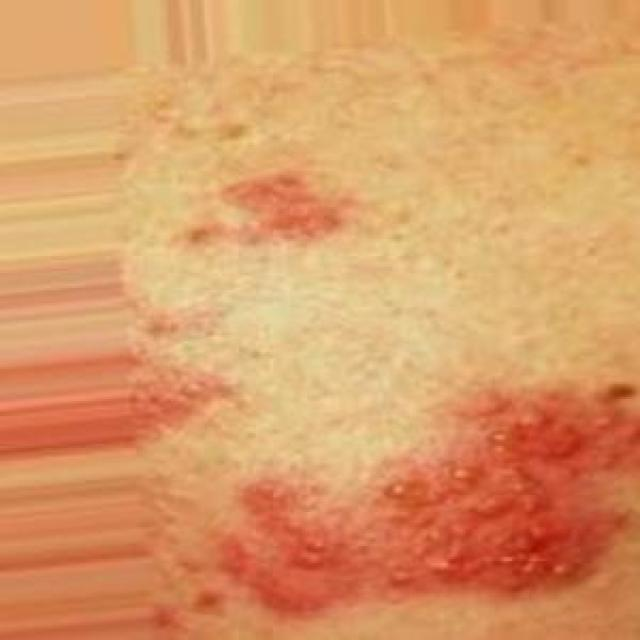Shingles: (217, 384, 640, 620), (197, 157, 361, 247), (130, 310, 232, 433)
